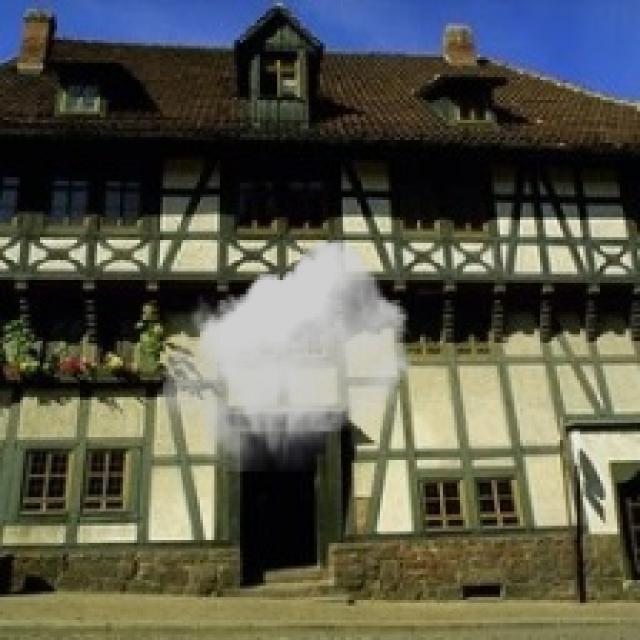smoke: (163, 240, 411, 471)
